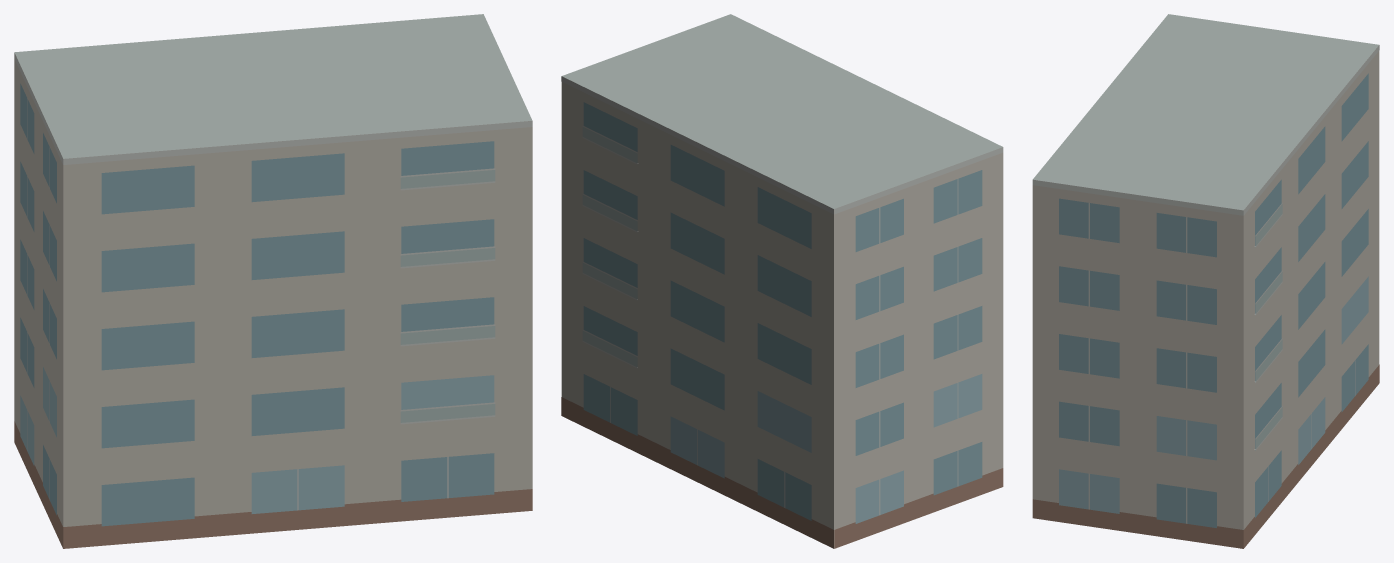
The model's file is survey-upis-32700801.glb.
The picture shows the model from 3 angles, left to right: view 1: azimuth 30°, elevation 25°; view 2: azimuth 150°, elevation 25°; view 3: azimuth 270°, elevation 25°; orthographic projection. The views are drawn at different scales.
Parts seen in each view (by area): view 1: survey-upis-32700801.tmp; view 2: survey-upis-32700801.tmp; view 3: survey-upis-32700801.tmp.
Part boxes in pixels (x1,y1,x2,y2): survey-upis-32700801.tmp: (14, 14, 532, 548); survey-upis-32700801.tmp: (561, 14, 1003, 548); survey-upis-32700801.tmp: (1032, 14, 1379, 548).
Size of the model in its own units: 18.99 by 15.25 by 14.17.
